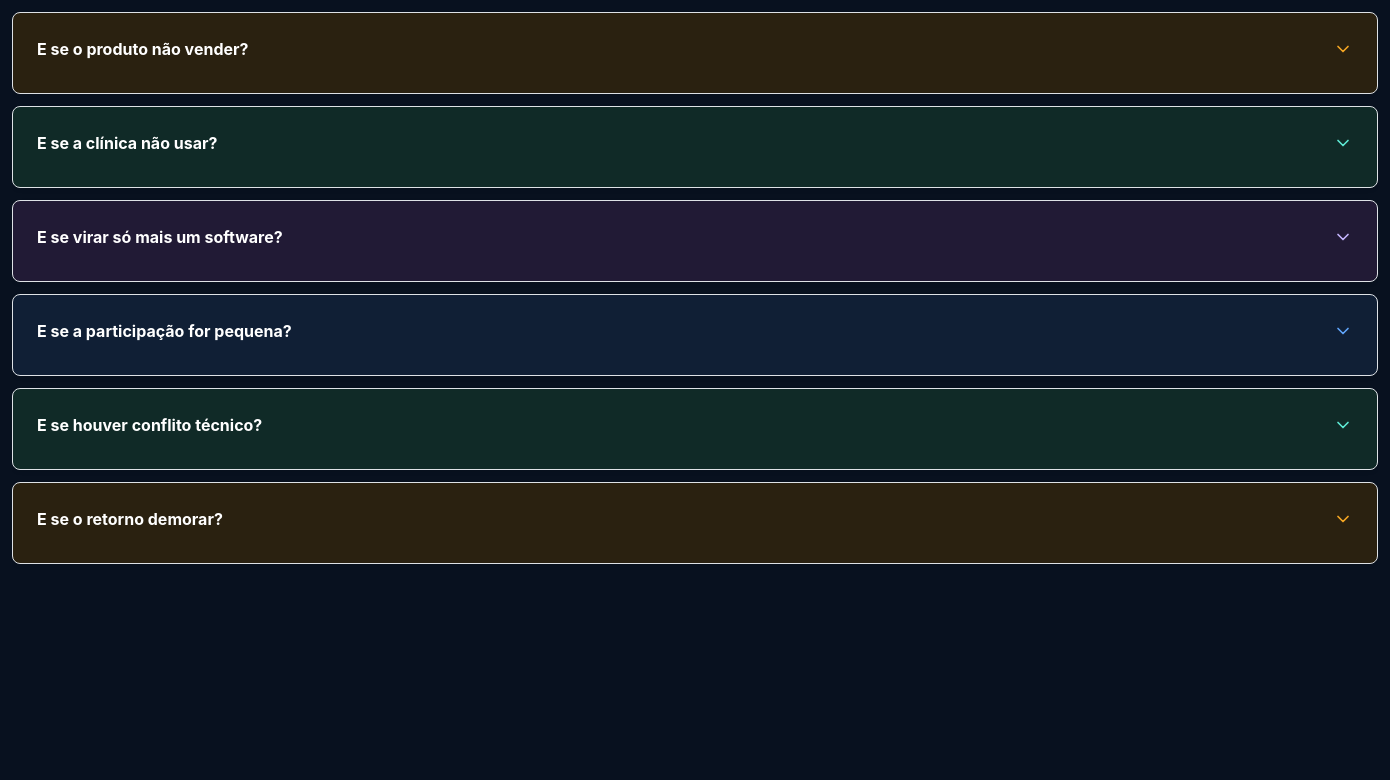
Test: ObjectionAccordion › Single-item expansion behavior › should only allow one item expanded at a time
The width and height of the screenshot is (1390, 780).
Note: Expand first item
Click the button "E se o produto não vender?": (143, 49) [13,13,1377,85]
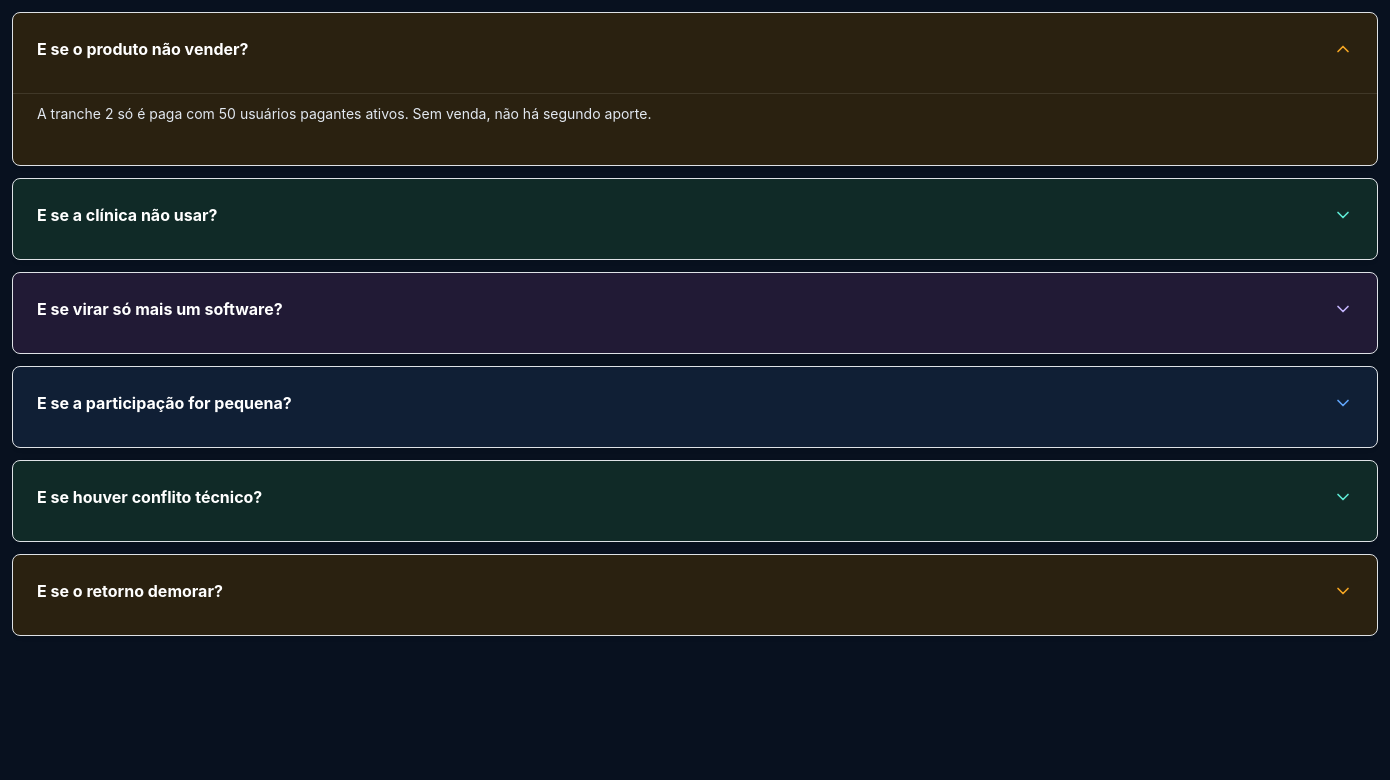
Result: the button "E se o produto não vender?" is expanded at [13,13,1377,85]
Note: Expand second item (should collapse first)
Click the button "E se a clínica não usar?": (127, 215) [13,179,1377,251]
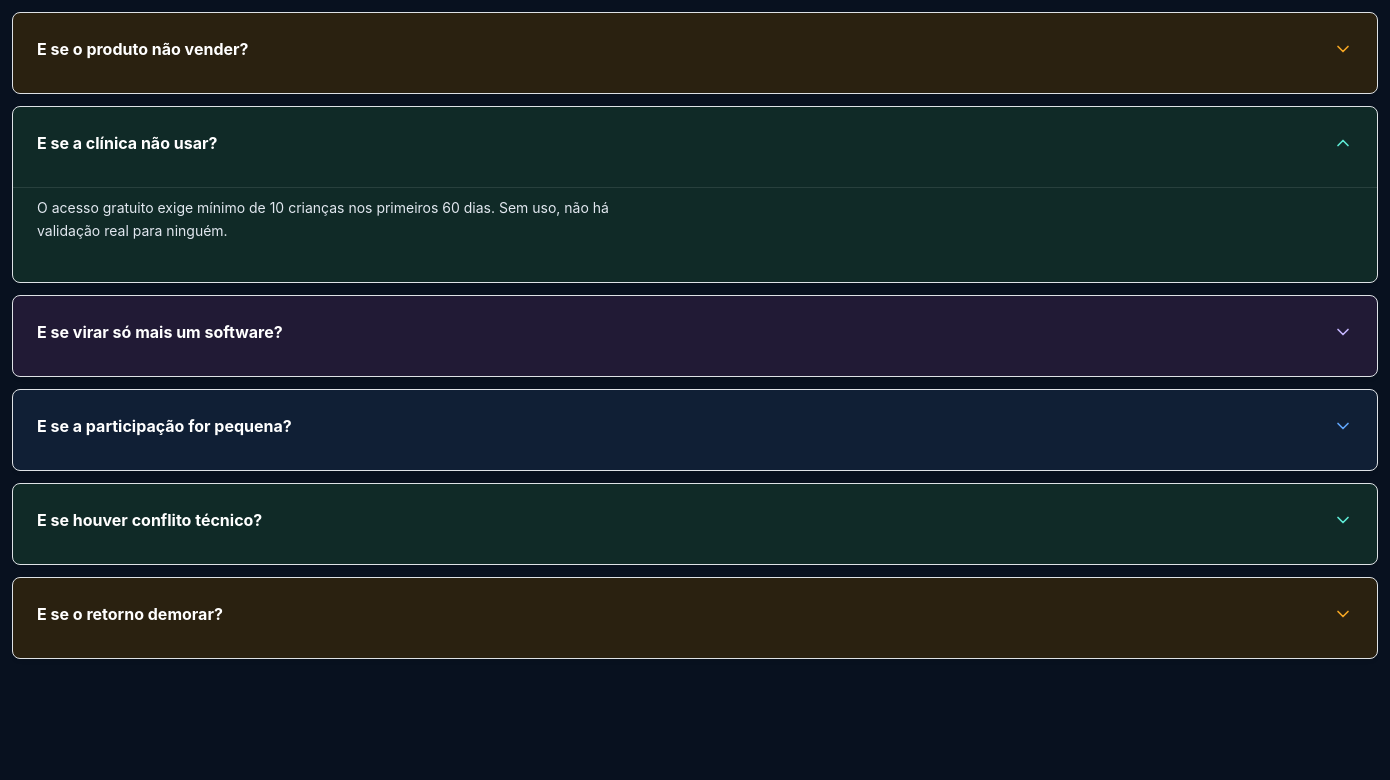
Result: the button "E se o produto não vender?" is collapsed at [13,13,1377,85]
Result: the button "E se a clínica não usar?" is expanded at [13,107,1377,179]
